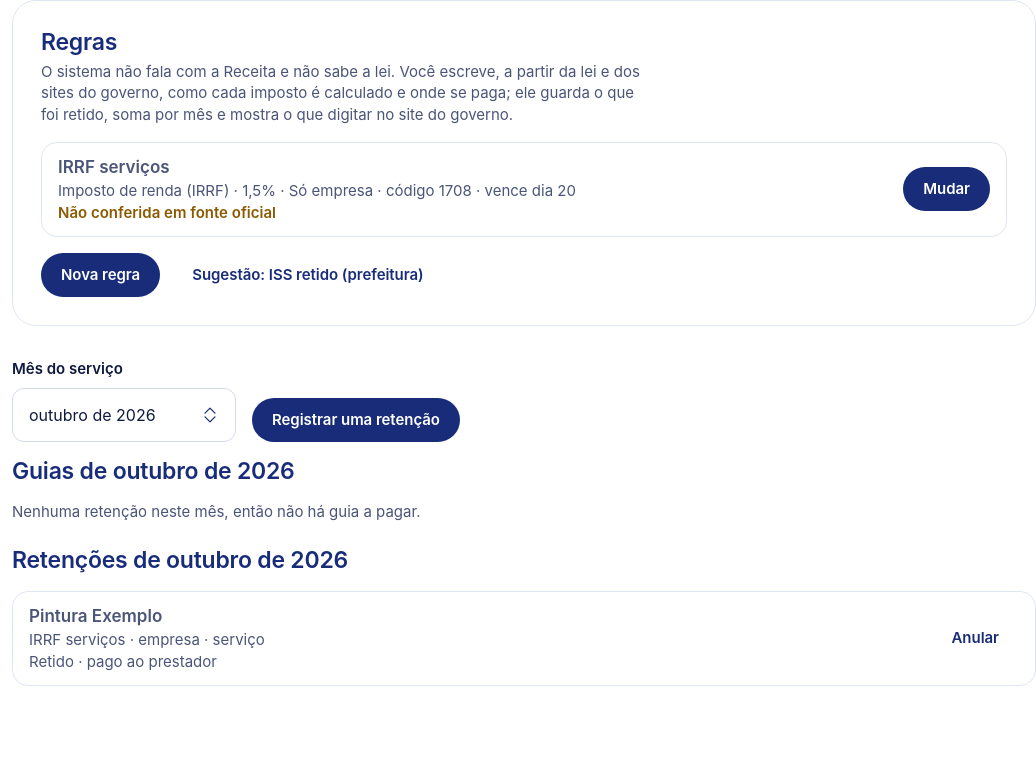
TaxArea › anula uma retencao e uma recusa vira texto sem o codigo
Click the button with aria-label "Anular a retenção de Pintura Exemplo" at (975, 638), box [932,616,1019,660]
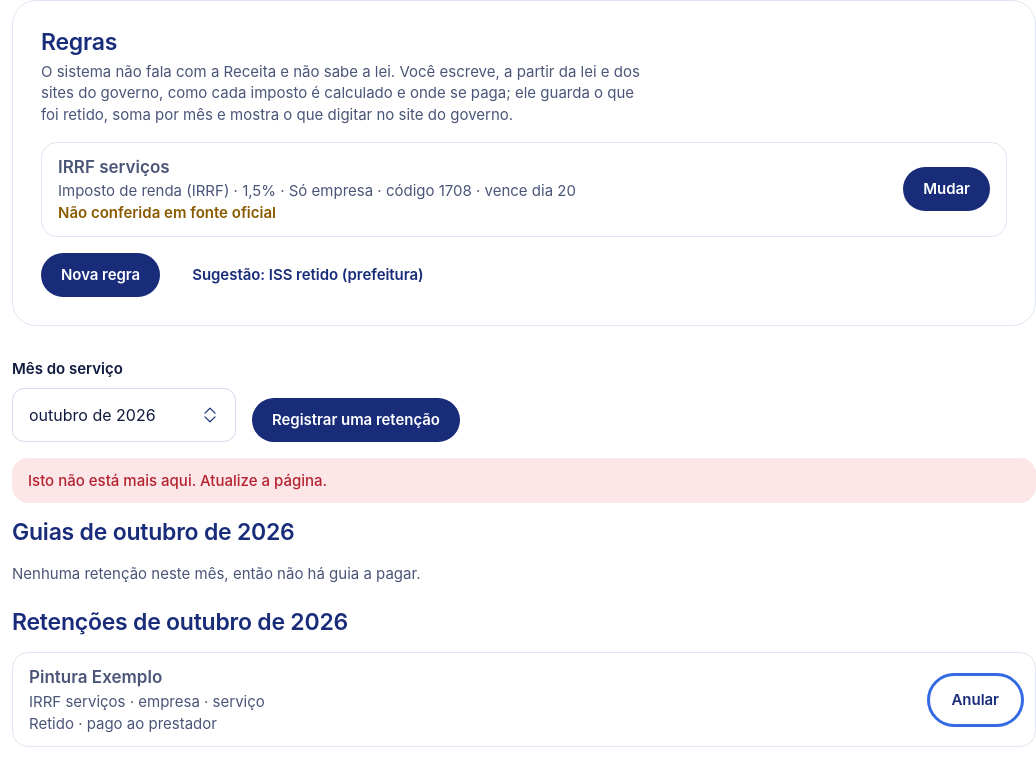
Check: the message shows "Isto não está mais aqui", box [28,471,327,490]
